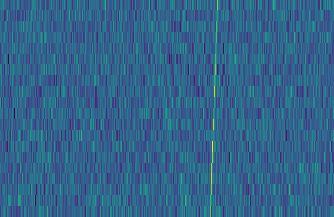signal: (206, 0, 222, 217)
